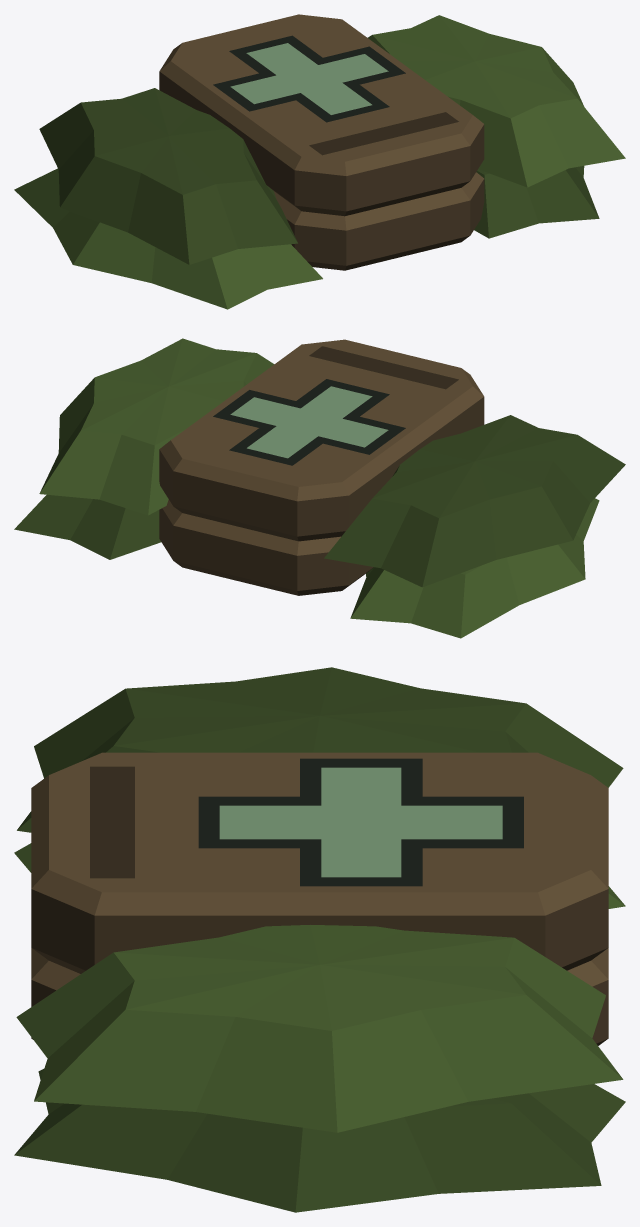
The model's file is item_medicine_herbal_b.obj.
3 renders of one model, top to bottom at view 1: azimuth 30°, elevation 25°; view 2: azimuth 150°, elevation 25°; view 3: azimuth 270°, elevation 25°, orthographic. The views are drawn at different scales.
Size of the model in its own units: 0.8974 by 0.1819 by 0.5556.
